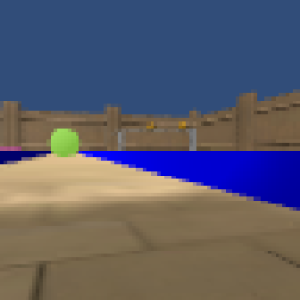goodGoal: (47, 128, 78, 157)
goodGoalMulti: (177, 119, 189, 131), (145, 122, 158, 131)
platform: (76, 150, 300, 210), (1, 150, 50, 166)
ramp: (1, 143, 26, 151)
wall: (114, 128, 126, 153), (189, 127, 198, 151)
